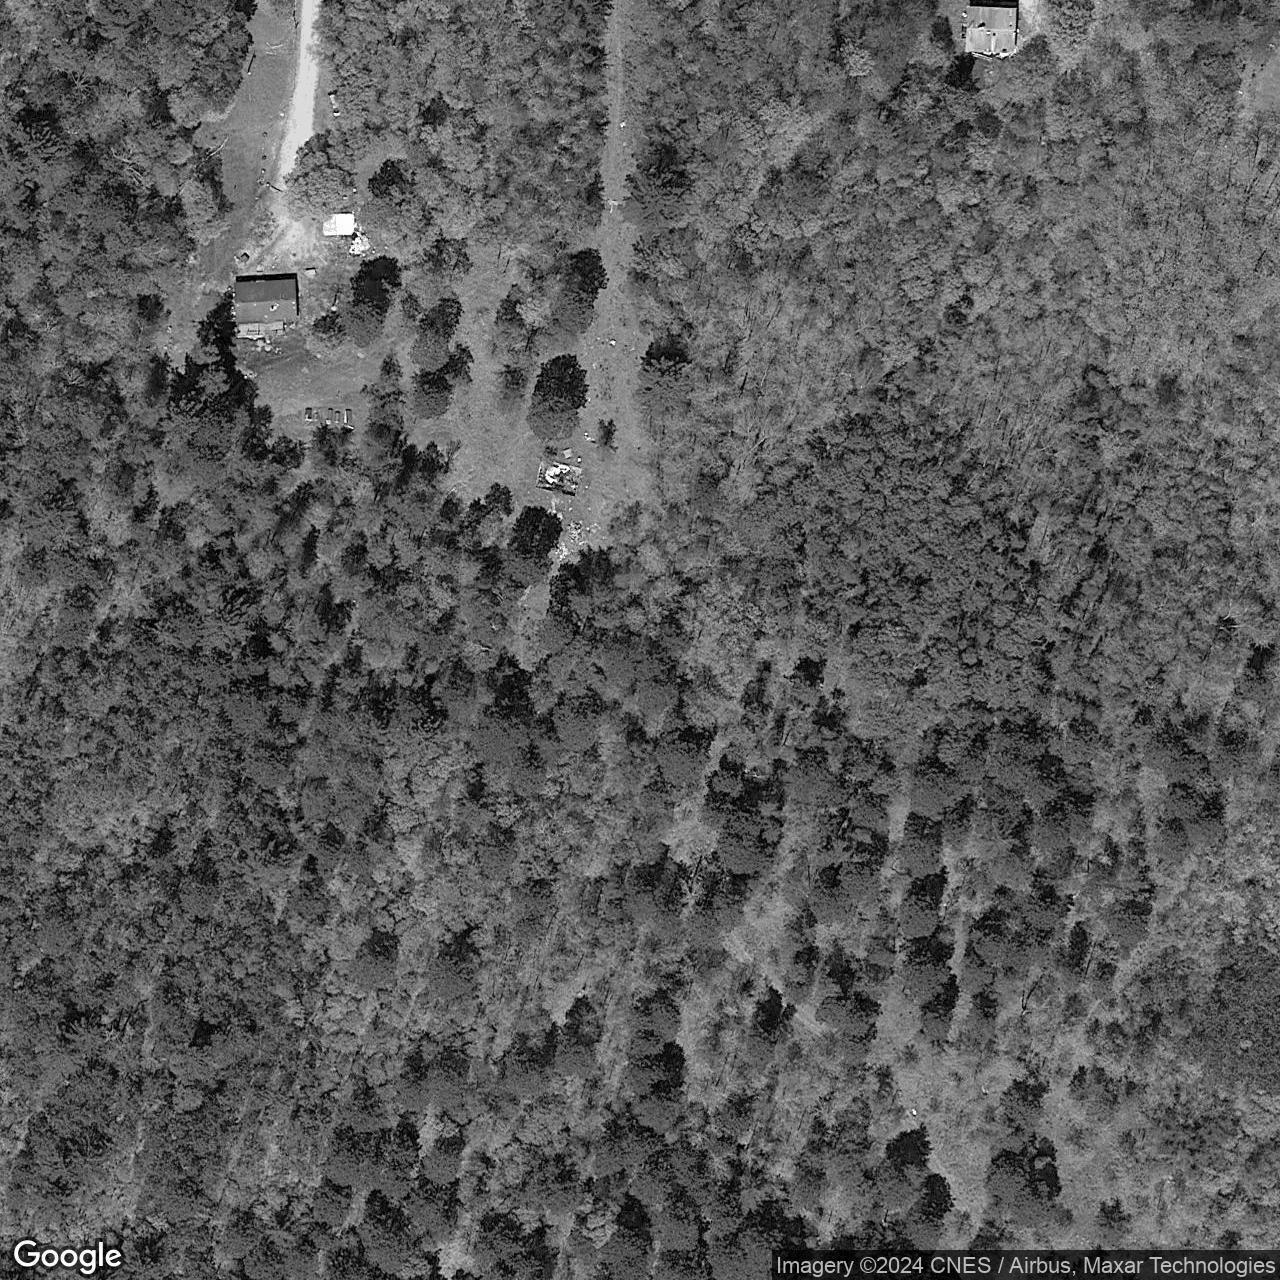House: (233, 278, 299, 324), (964, 6, 1019, 56)
